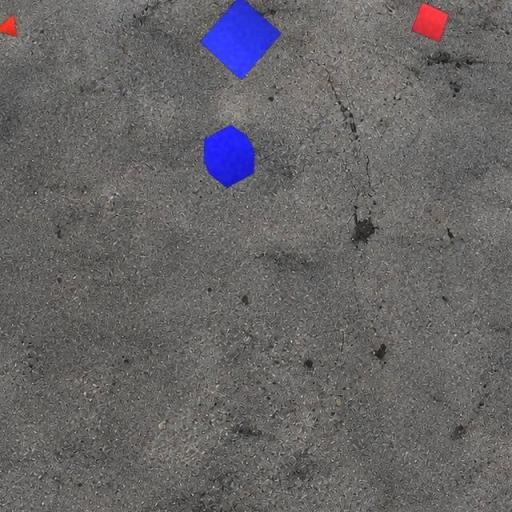BLUE_SQUARE: (200, 0, 282, 81)
RED_SQUARE: (410, 1, 450, 42)
